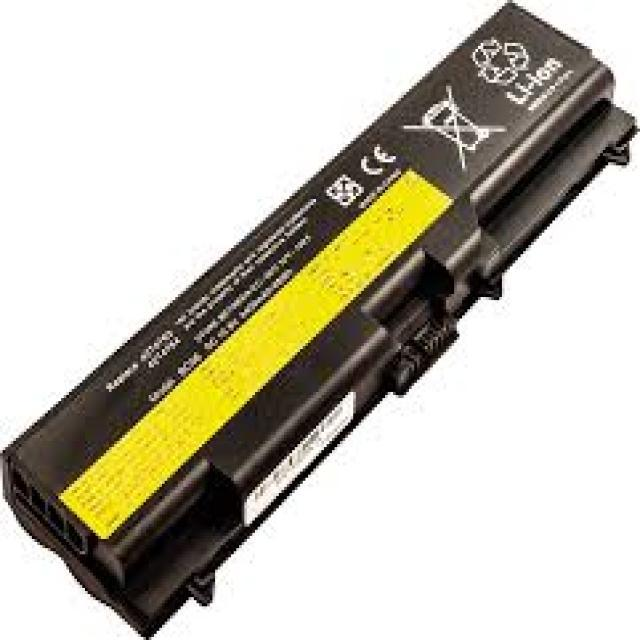Battery: (0, 0, 608, 640)
